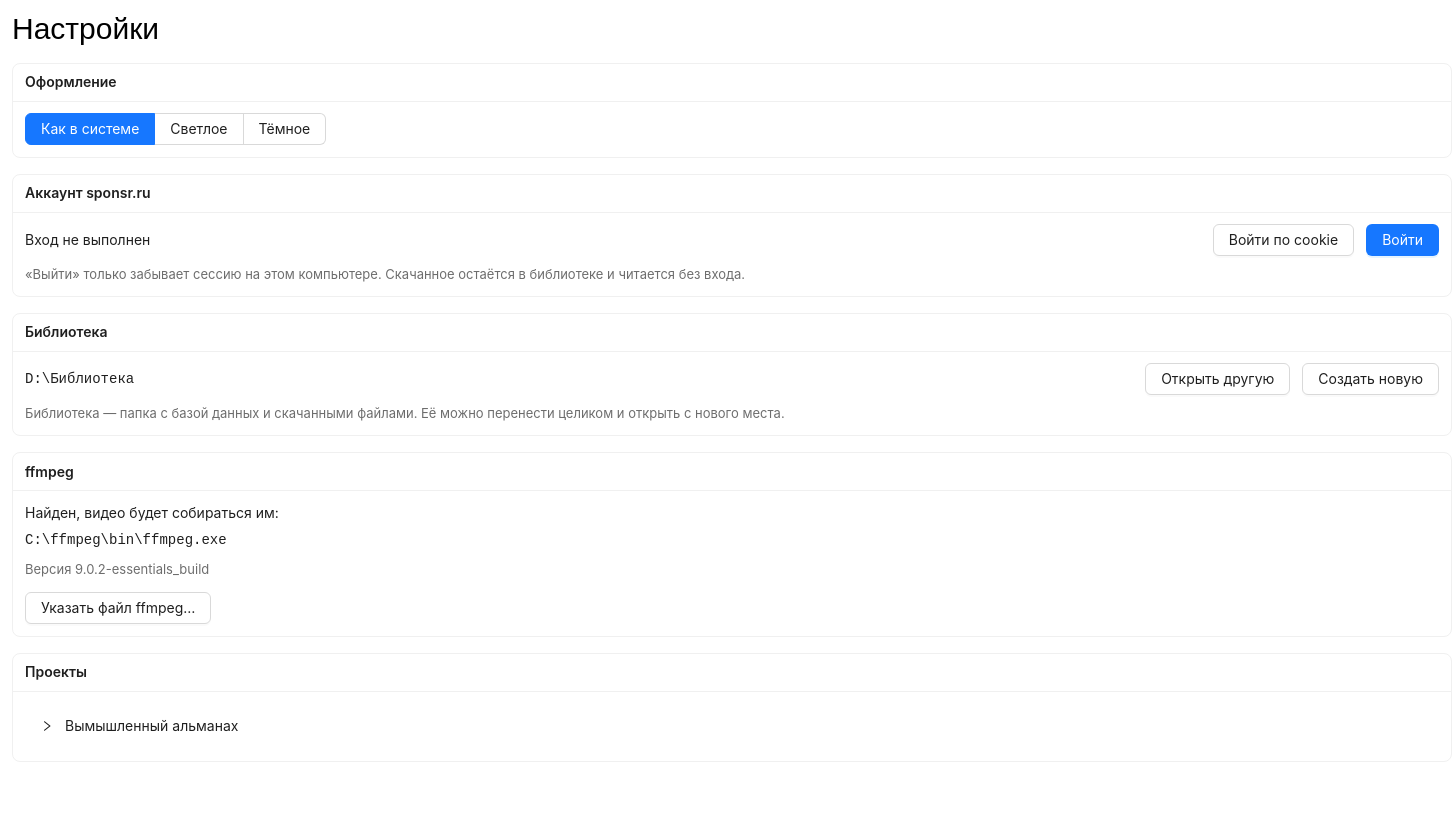
Test: SettingsView › ffmpeg › lets the user point at their ffmpeg and take that back
Expected: the text "Забыть указанный файл" is not shown
Click the button "Указать файл ffmpeg…" at (118,608), box [25,592,211,624]
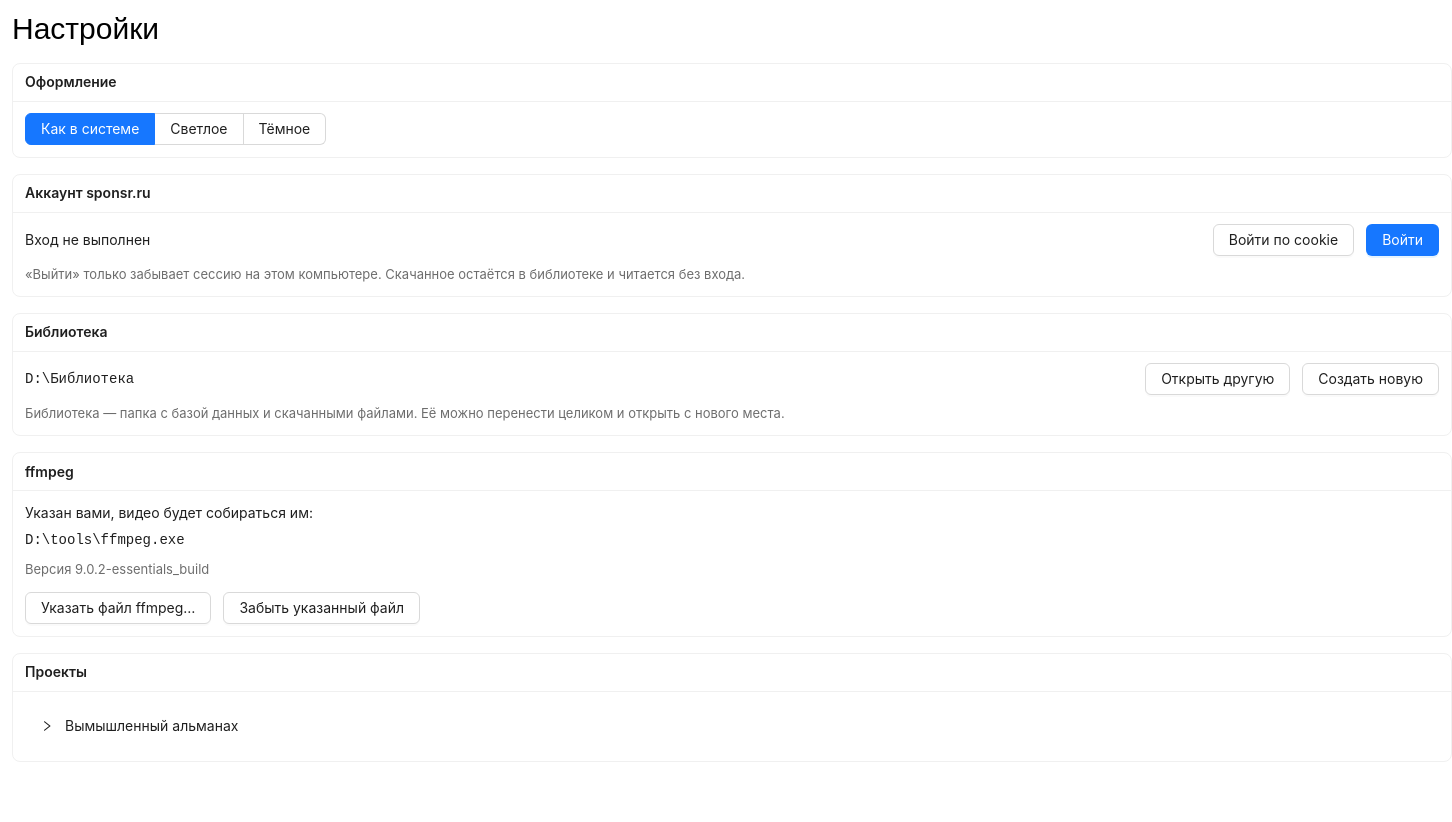
Expected: the text "Указан вами, видео будет собираться им:" is shown, [25,504,313,521]
Expected: the text "D:\\tools\\ffmpeg.exe" is shown, [25,532,185,548]
Click the button "Забыть указанный файл" at (322,608), box [223,592,420,624]
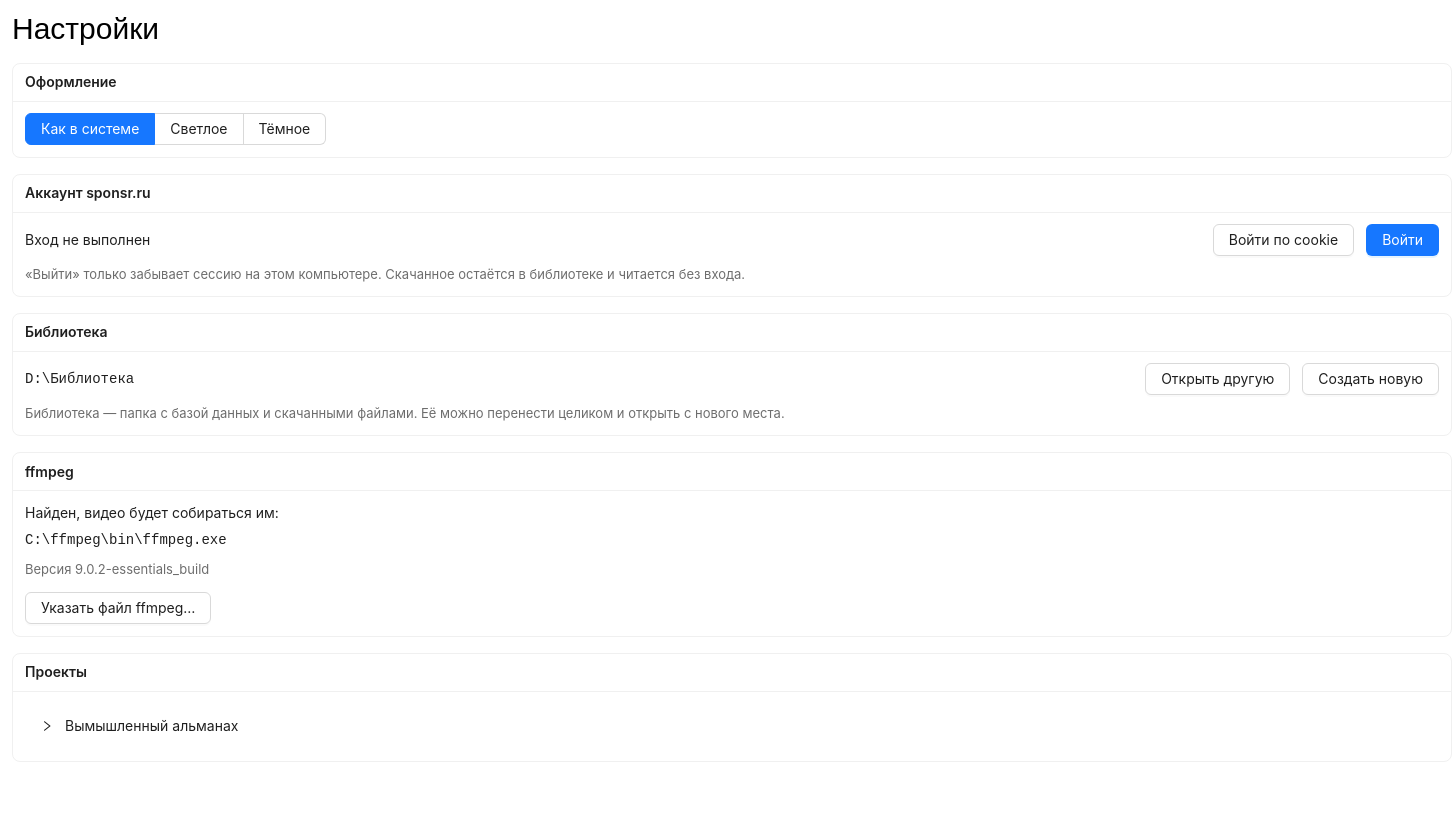
Expected: the text "C:\\ffmpeg\\bin\\ffmpeg.exe" is shown, [25,532,227,548]
